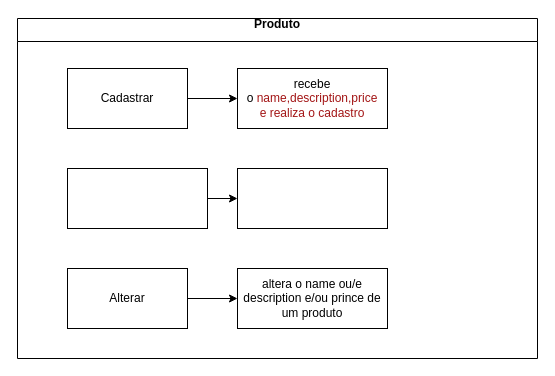
Some shapes in this 555 by 376 pixel diagram are drawn without their labels. The centre of each missing label's shape, as x and y in pixels:
"Deletar(indisponibilizar)" belongs at (137,198).
"Recebe o id, e indisponibiliza o produto para novos pedidos" belongs at (312,198).
